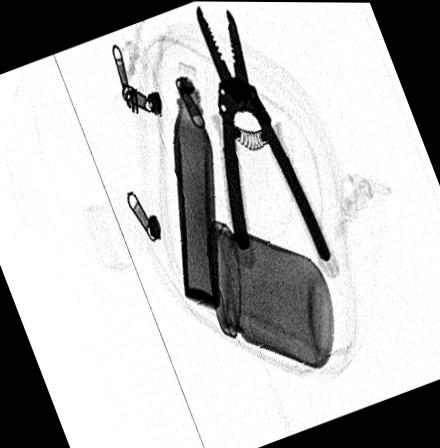Pliers: (194, 2, 332, 262)
